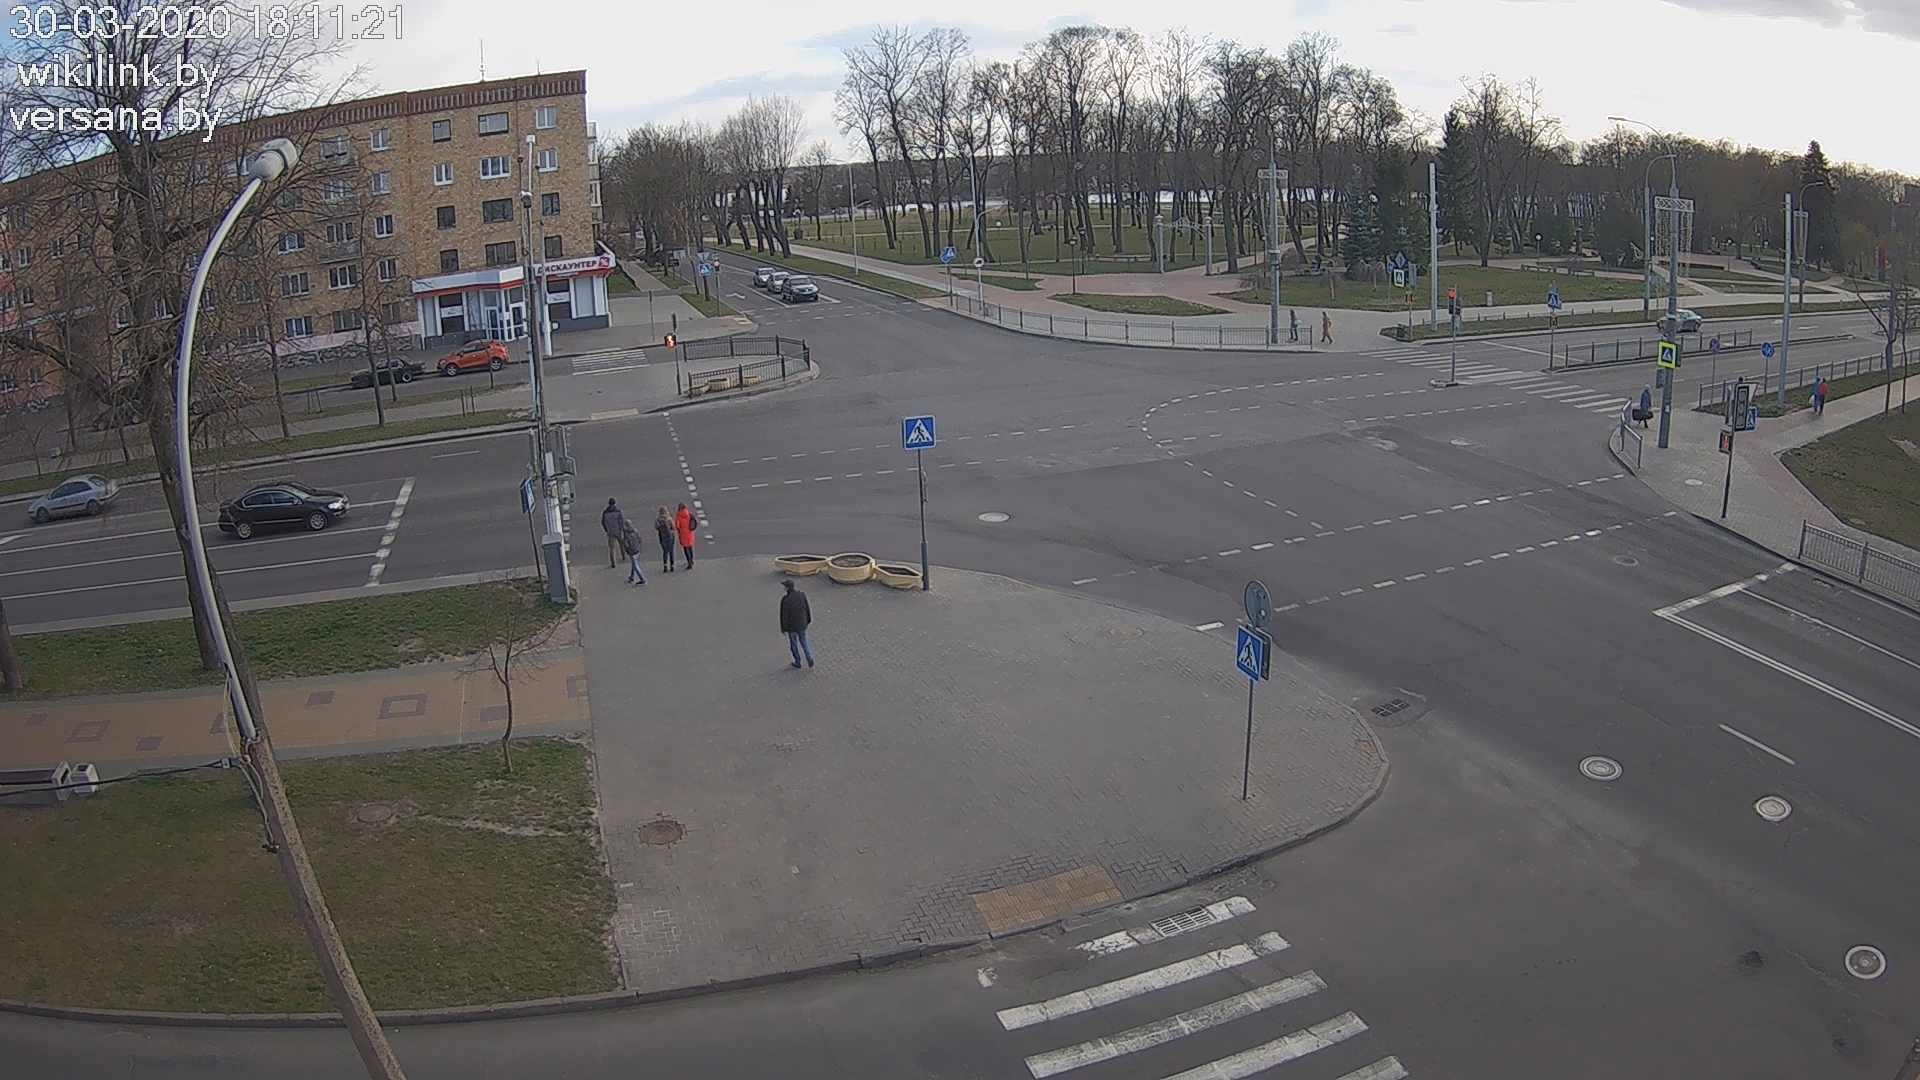car: (218, 480, 349, 541), (26, 473, 121, 524), (436, 339, 509, 376), (353, 355, 427, 386), (781, 274, 819, 303), (767, 272, 789, 293)
